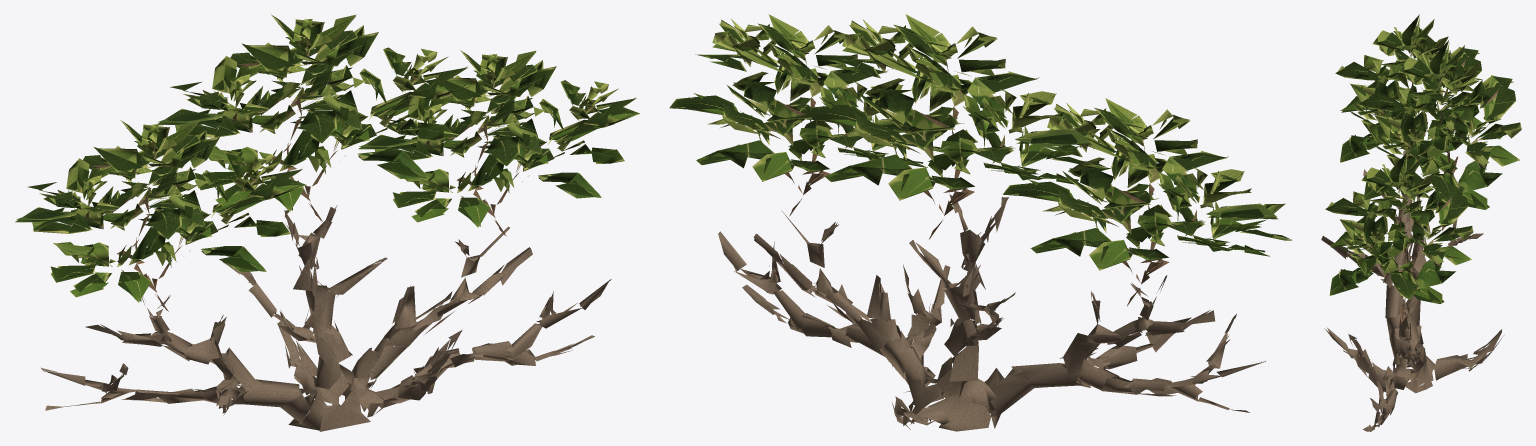
Rendered from midori_evergreen_shrub_v1.glb.
The picture shows the model from 3 angles, left to right: view 1: azimuth 30°, elevation 25°; view 2: azimuth 150°, elevation 25°; view 3: azimuth 270°, elevation 25°; orthographic projection. The views are drawn at different scales.
Visible parts, largest first — view 1: Shrub_Woody_Base, Shrub_Leaf_Cluster_B, Shrub_Leaf_Cluster_A, Shrub_Leaf_Cluster_C; view 2: Shrub_Woody_Base, Shrub_Leaf_Cluster_B, Shrub_Leaf_Cluster_A, Shrub_Leaf_Cluster_C; view 3: Shrub_Leaf_Cluster_B, Shrub_Leaf_Cluster_C, Shrub_Woody_Base, Shrub_Leaf_Cluster_A.
Part boxes in pixels (bbox=[...]): Shrub_Woody_Base: bbox=[40, 205, 611, 431]; Shrub_Leaf_Cluster_B: bbox=[157, 14, 471, 221]; Shrub_Leaf_Cluster_A: bbox=[15, 120, 306, 311]; Shrub_Leaf_Cluster_C: bbox=[358, 50, 639, 236]; Shrub_Woody_Base: bbox=[718, 194, 1265, 431]; Shrub_Leaf_Cluster_B: bbox=[794, 14, 1107, 239]; Shrub_Leaf_Cluster_A: bbox=[1003, 98, 1292, 306]; Shrub_Leaf_Cluster_C: bbox=[669, 14, 943, 216]; Shrub_Leaf_Cluster_B: bbox=[1359, 40, 1521, 230]; Shrub_Leaf_Cluster_C: bbox=[1325, 152, 1473, 322]; Shrub_Woody_Base: bbox=[1321, 151, 1502, 431]; Shrub_Leaf_Cluster_A: bbox=[1335, 14, 1485, 170].
Size of the model in its own units: 2.33 by 1.46 by 0.8306.
Materials: 2 (2 with a texture image).
